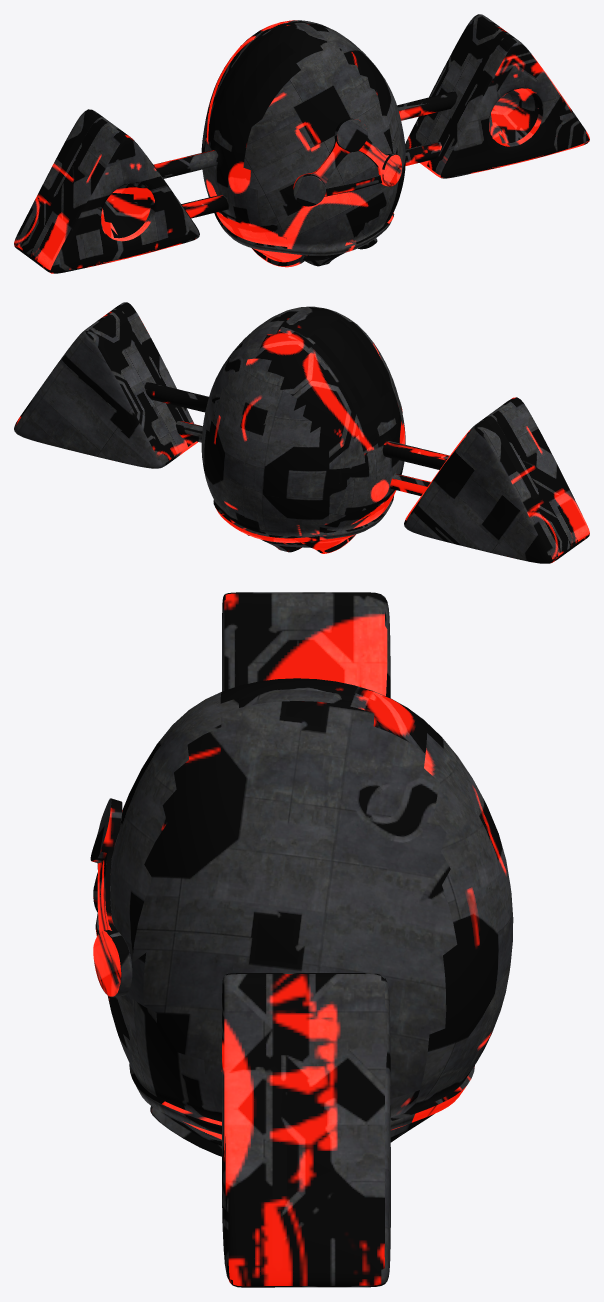
File: Boss Droid.fbx
3 views of the same model, one above another, from view 1: azimuth 30°, elevation 25°; view 2: azimuth 150°, elevation 25°; view 3: azimuth 270°, elevation 25° (orthographic). The views are drawn at different scales.
Visible parts, largest first — view 1: L.Polly-Boss Droid; view 2: L.Polly-Boss Droid; view 3: L.Polly-Boss Droid.
Part boxes in pixels (bbox=[...]): L.Polly-Boss Droid: bbox=[14, 14, 589, 273]; L.Polly-Boss Droid: bbox=[14, 302, 589, 563]; L.Polly-Boss Droid: bbox=[90, 592, 513, 1287].
Bounding box in the file's own units: 507 × 203 × 171.
